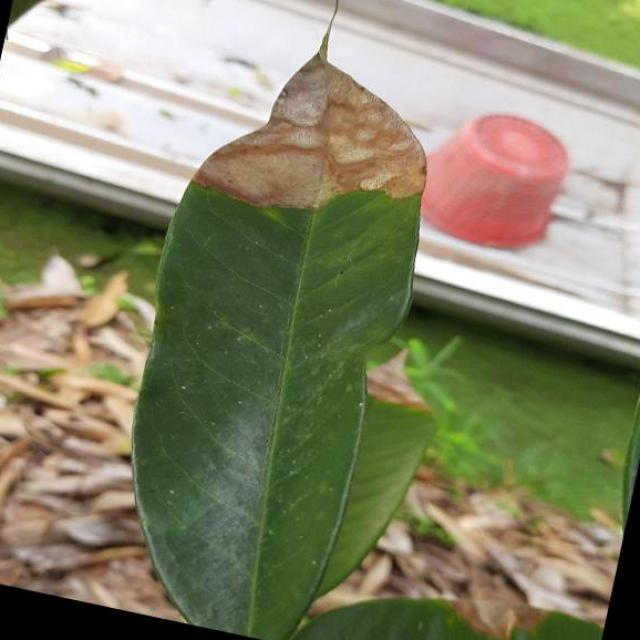Leaf Blight: (80, 10, 474, 640)
